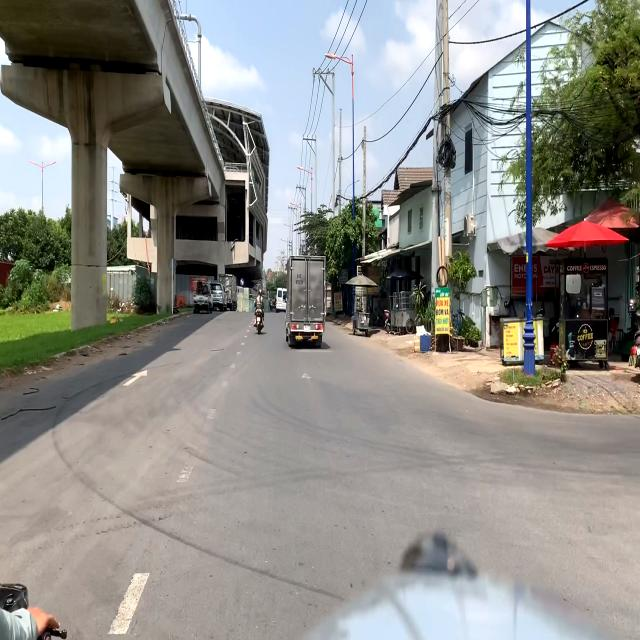R.302a: (240, 278, 244, 287)
